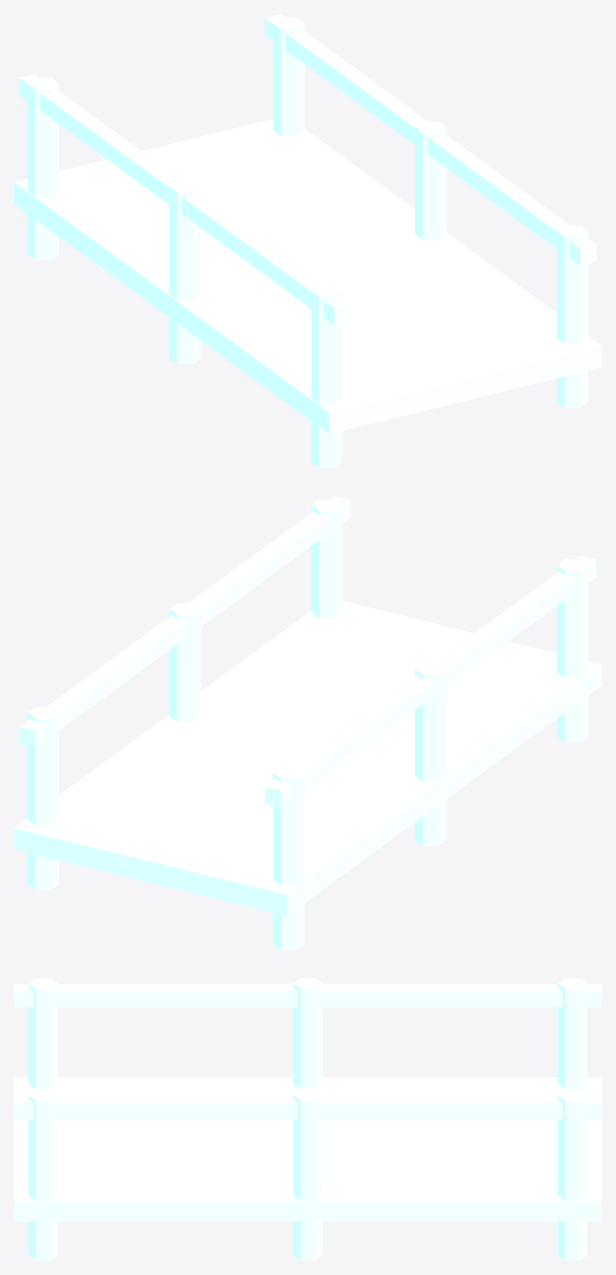
Rendered from r10_ponte_luz.glb.
The picture shows the model from 3 angles, top to bottom: view 1: azimuth 30°, elevation 25°; view 2: azimuth 150°, elevation 25°; view 3: azimuth 270°, elevation 25°; orthographic projection. The views are drawn at different scales.
Visible parts, largest first — view 1: r10_ponte_luz; view 2: r10_ponte_luz; view 3: r10_ponte_luz.
Boxes of the visible parts, x1=… form: r10_ponte_luz: x1=14, y1=14, x2=601, y2=467; r10_ponte_luz: x1=14, y1=496, x2=601, y2=949; r10_ponte_luz: x1=14, y1=978, x2=601, y2=1260.
Bounding box in the file's own units: 2 × 1.2 × 4.
